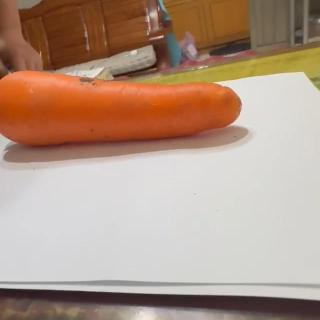carrot: (0, 70, 244, 146)
